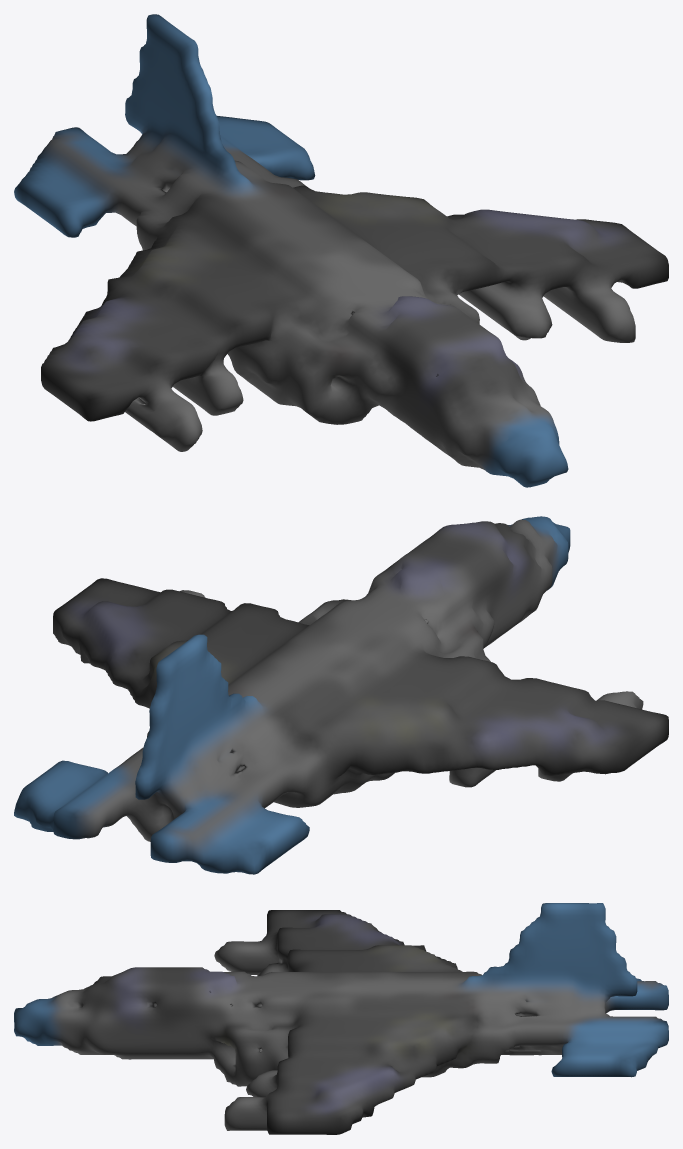
Rendered from beag.glb.
3 renders of one model, top to bottom at view 1: azimuth 30°, elevation 25°; view 2: azimuth 150°, elevation 25°; view 3: azimuth 270°, elevation 25°, orthographic. The views are drawn at different scales.
Visible parts, largest first — view 1: beag; view 2: beag; view 3: beag.
Boxes of the visible parts, x1,y1,x2,y2 form: beag: [14, 14, 668, 487]; beag: [14, 516, 668, 874]; beag: [14, 903, 668, 1134].
Bounding box in the file's own units: 3.9 × 1.35 × 5.15.
